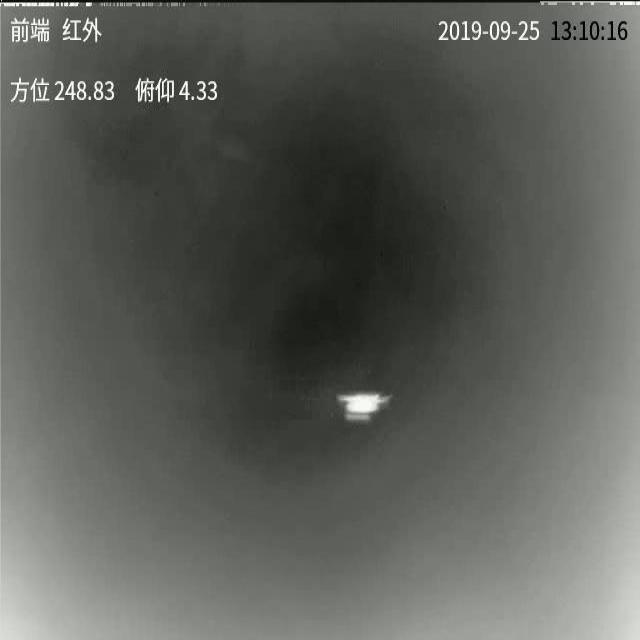drone: (339, 390, 395, 422)
